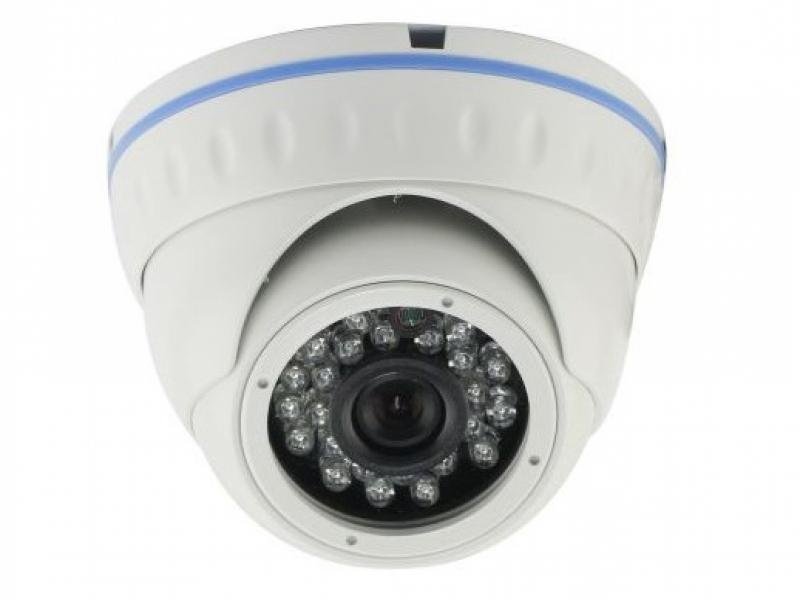Security camera: (105, 20, 669, 570)
